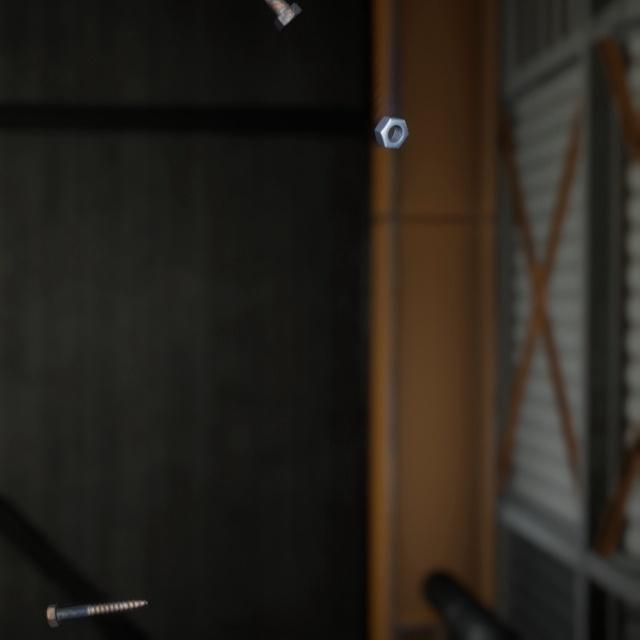bolt: (42, 571, 152, 608), (264, 0, 306, 28)
nut: (369, 99, 412, 141)
